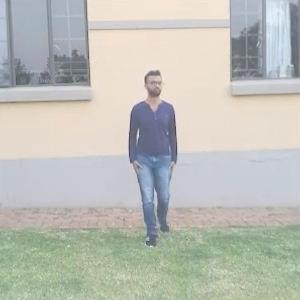follow: (121, 57, 187, 265)
